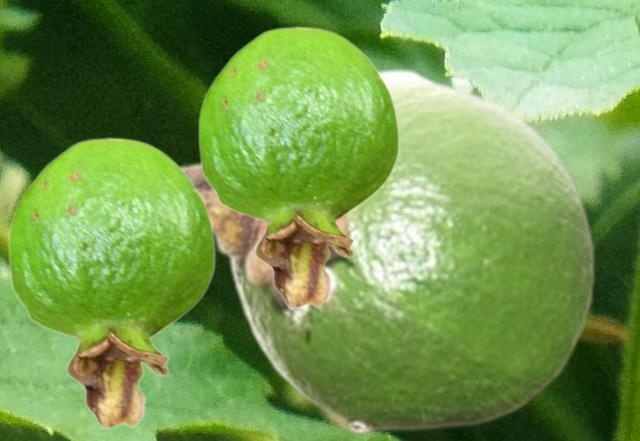guava: (178, 66, 598, 434), (7, 136, 215, 429), (197, 25, 399, 309)
